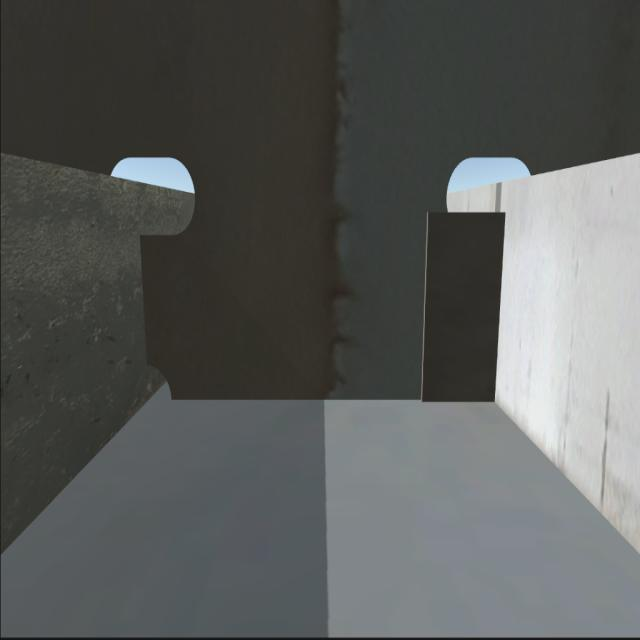fillet_hole: (146, 362, 172, 403)
fillet_yong_jeop_jang: (170, 392, 498, 408)
longi_yong_jeop_jang: (136, 240, 154, 355), (493, 222, 502, 402)
plate_CP01: (426, 208, 502, 395)
